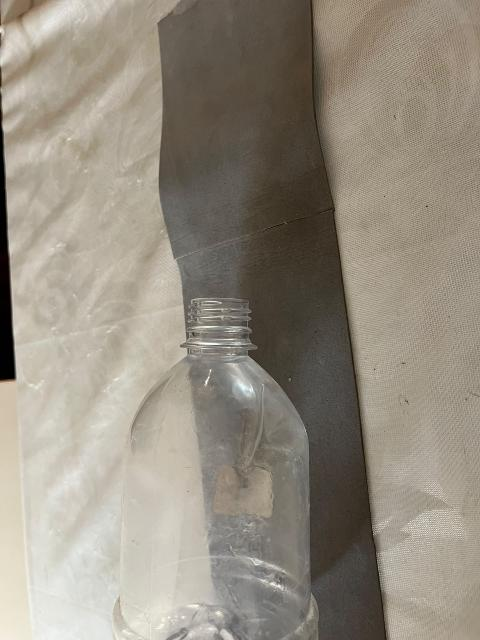PET: (101, 275, 336, 640)
